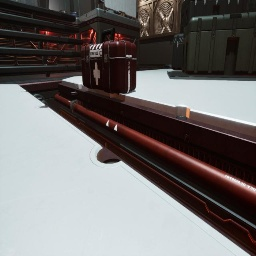FireExtinguisher ]: (115, 12, 120, 15)
FirstAidBox ,: (81, 28, 137, 95)
